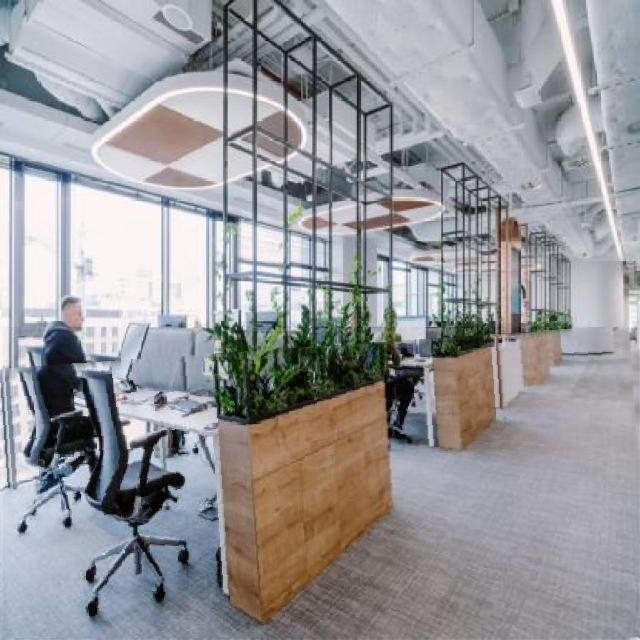floor: (4, 328, 640, 639)
